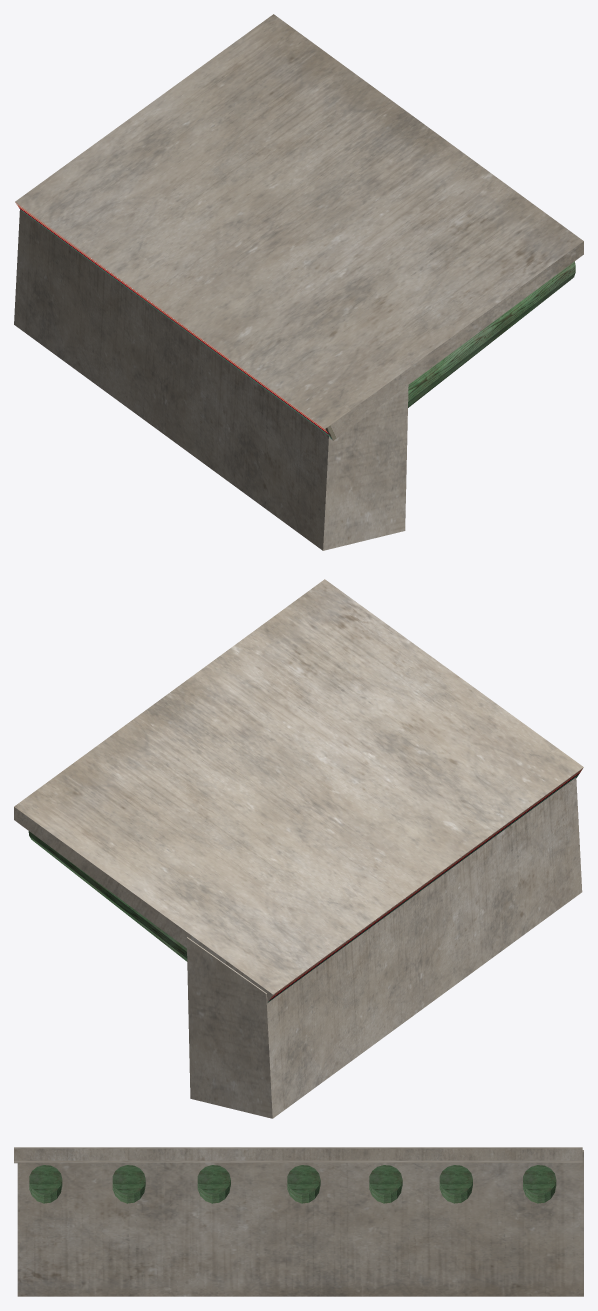
File: SM_Roof_47.fbx
3 views of the same model, one above another, from view 1: azimuth 30°, elevation 25°; view 2: azimuth 150°, elevation 25°; view 3: azimuth 270°, elevation 25° (orthographic). The views are drawn at different scales.
Visible parts, largest first — view 1: SM_Roof_47; view 2: SM_Roof_47; view 3: SM_Roof_47.
Boxes of the visible parts, x1,y1,x2,y2 form: SM_Roof_47: [14, 14, 583, 550]; SM_Roof_47: [14, 579, 583, 1118]; SM_Roof_47: [14, 1147, 583, 1296].
Bounding box in the file's own units: 218 × 453 × 199.
Materials: 3 (3 with a texture image).
